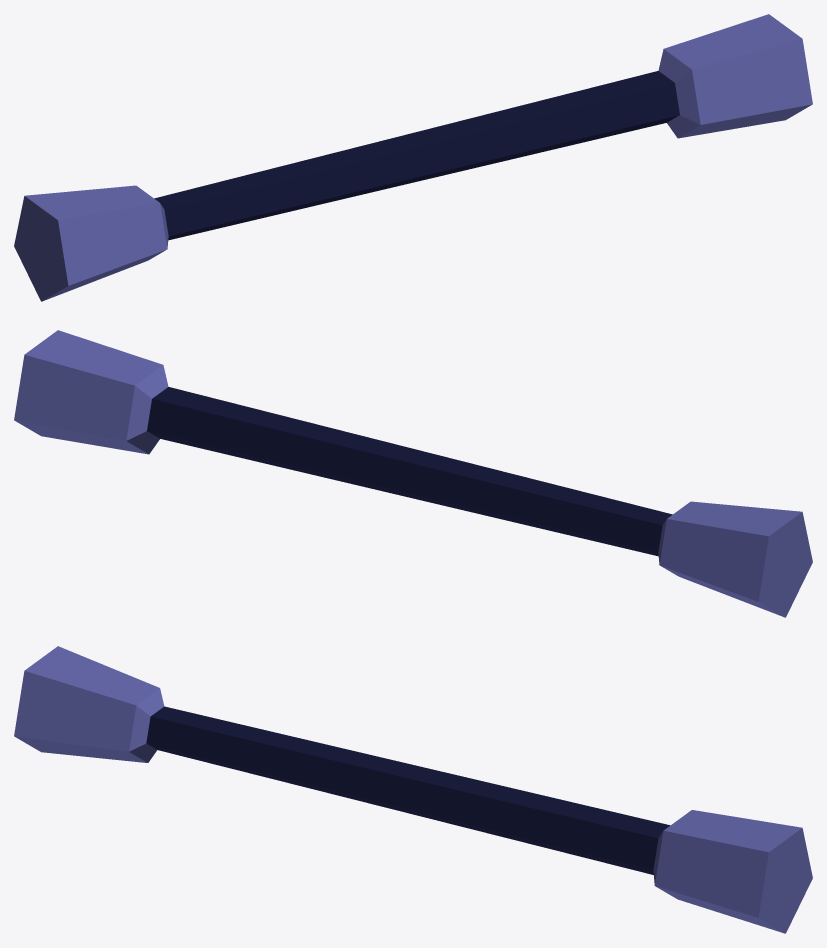
Rendered from MDL_Light_02.FBX.
The picture shows the model from 3 angles, top to bottom: view 1: azimuth 30°, elevation 25°; view 2: azimuth 150°, elevation 25°; view 3: azimuth 330°, elevation 25°; orthographic projection.
Parts seen in each view (by area): view 1: Line013; view 2: Line013; view 3: Line013.
Boxes of the visible parts, left/top/right/bottom form: Line013: left=14, top=14, right=812, bottom=301; Line013: left=14, top=330, right=812, bottom=617; Line013: left=14, top=646, right=812, bottom=933.
Size of the model in its own units: 32.3 by 3.89 by 4.09.
